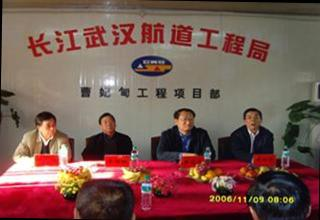no_helmet: (244, 164, 311, 220), (67, 173, 142, 218), (170, 104, 198, 134), (33, 109, 58, 140), (240, 105, 264, 132), (97, 110, 117, 136)
